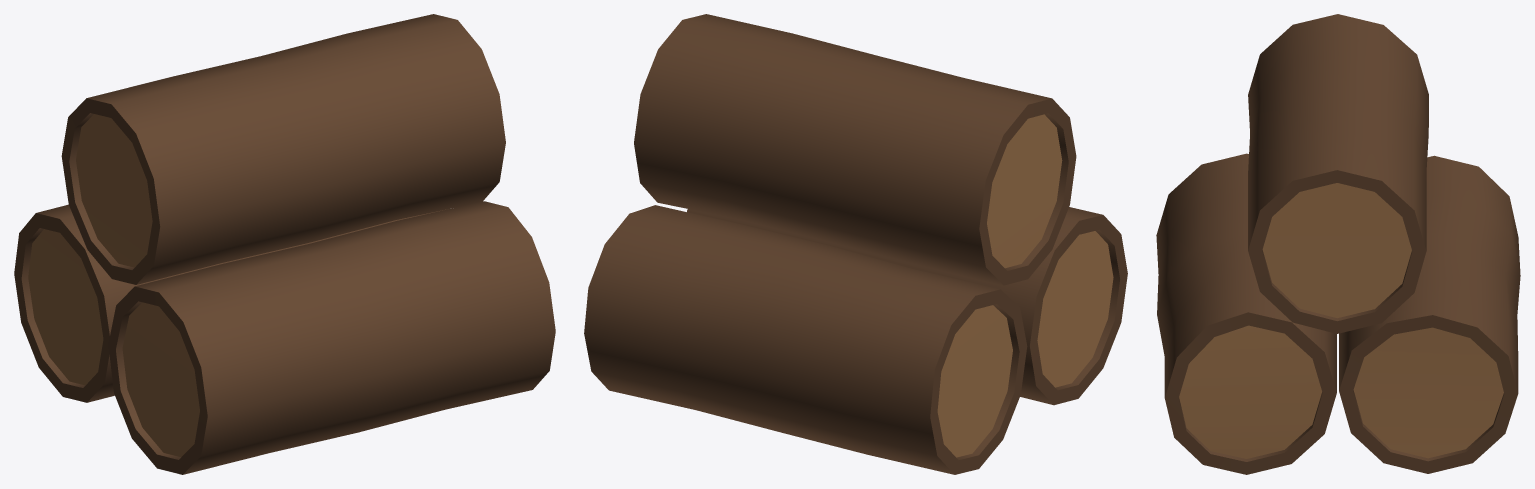
File: Wood.fbx
The picture shows the model from 3 angles, left to right: view 1: azimuth 30°, elevation 25°; view 2: azimuth 150°, elevation 25°; view 3: azimuth 270°, elevation 25°; orthographic projection. The views are drawn at different scales.
Parts seen in each view (by area): view 1: SM_Wood; view 2: SM_Wood; view 3: SM_Wood.
Part boxes in pixels (left/top/right/bottom): SM_Wood: left=14, top=14, right=555, bottom=474; SM_Wood: left=584, top=14, right=1127, bottom=474; SM_Wood: left=1156, top=14, right=1520, bottom=474.
Size of the model in its own units: 88.33 by 78.84 by 85.15.
